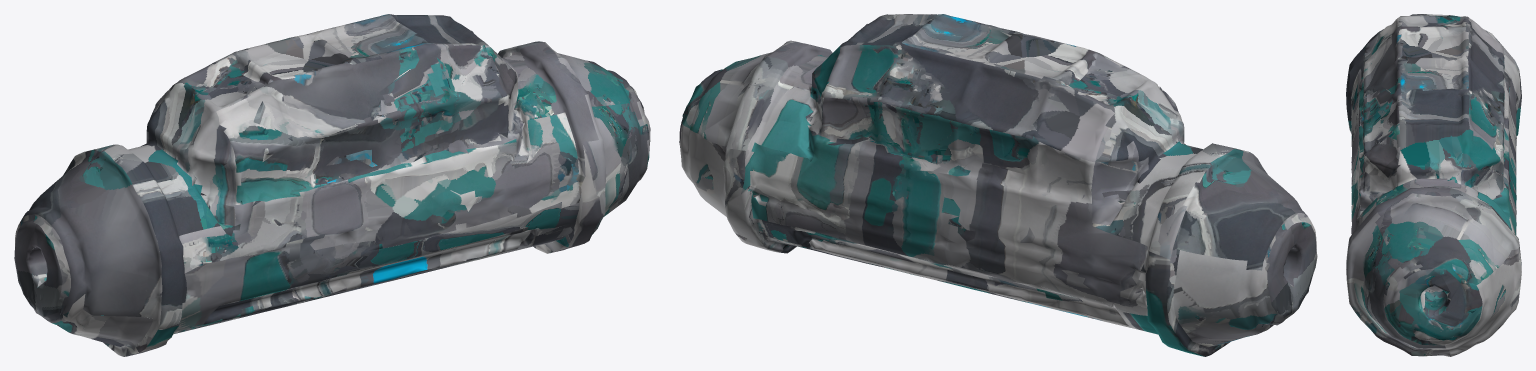
Rendered from SM_Farm_tex1.fbx.
3 renders of one model, left to right at view 1: azimuth 30°, elevation 25°; view 2: azimuth 150°, elevation 25°; view 3: azimuth 270°, elevation 25°, orthographic. The views are drawn at different scales.
Parts seen in each view (by area): view 1: SMT_Farm; view 2: SMT_Farm; view 3: SMT_Farm.
Boxes of the visible parts, x1=… form: SMT_Farm: x1=14, y1=14, x2=650, y2=356; SMT_Farm: x1=679, y1=14, x2=1317, y2=356; SMT_Farm: x1=1346, y1=14, x2=1521, y2=356.
Bounding box in the file's own units: 1.92 × 0.7712 × 0.5913.
